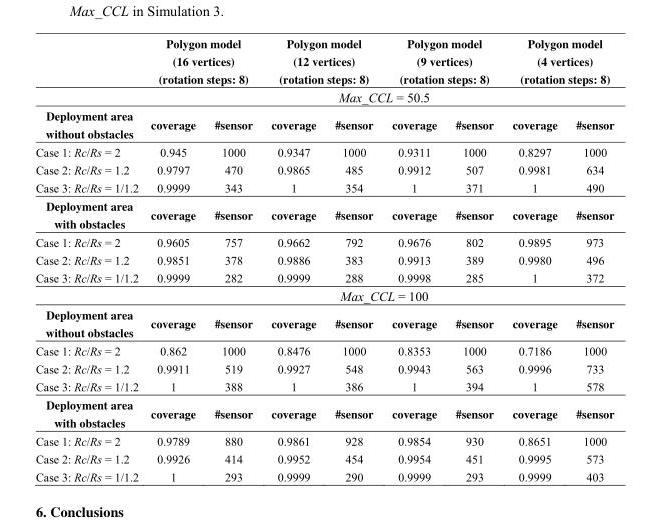table: (34, 34, 613, 483)
table column: (34, 34, 144, 483), (381, 34, 445, 483), (261, 34, 324, 483), (502, 34, 565, 483), (144, 34, 204, 483), (204, 34, 261, 483), (324, 34, 381, 483), (445, 34, 502, 483), (565, 34, 613, 483)
table column header: (34, 34, 613, 143)
table row: (34, 34, 613, 88), (34, 105, 613, 143), (34, 195, 613, 233), (34, 304, 613, 342), (34, 394, 613, 432), (34, 160, 613, 178), (34, 250, 613, 268), (34, 268, 613, 286), (34, 286, 613, 304), (34, 359, 613, 377), (34, 449, 613, 467), (34, 88, 613, 105), (34, 143, 613, 160), (34, 178, 613, 195), (34, 233, 613, 250), (34, 342, 613, 359), (34, 377, 613, 394), (34, 432, 613, 449), (34, 467, 613, 483)
table spanning cell: (34, 34, 144, 143), (144, 286, 613, 304), (144, 88, 613, 105), (381, 34, 502, 88), (261, 34, 381, 88), (144, 34, 261, 88), (502, 34, 613, 88), (34, 268, 144, 304)
